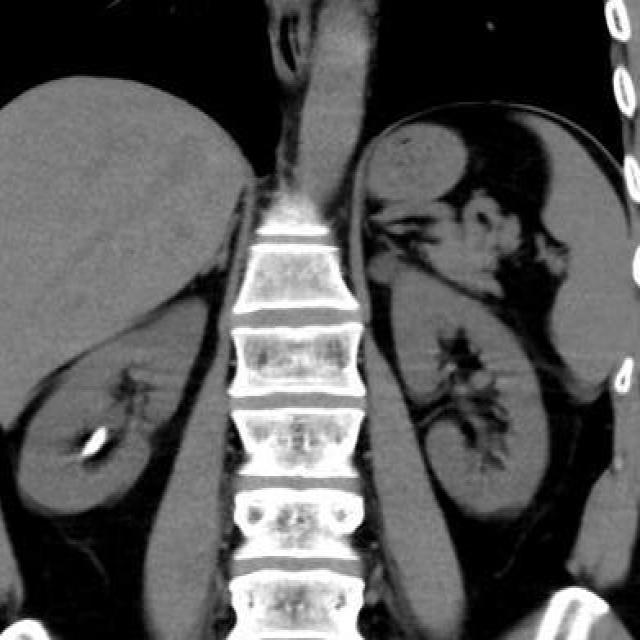Tas_Var: (76, 424, 112, 464)
